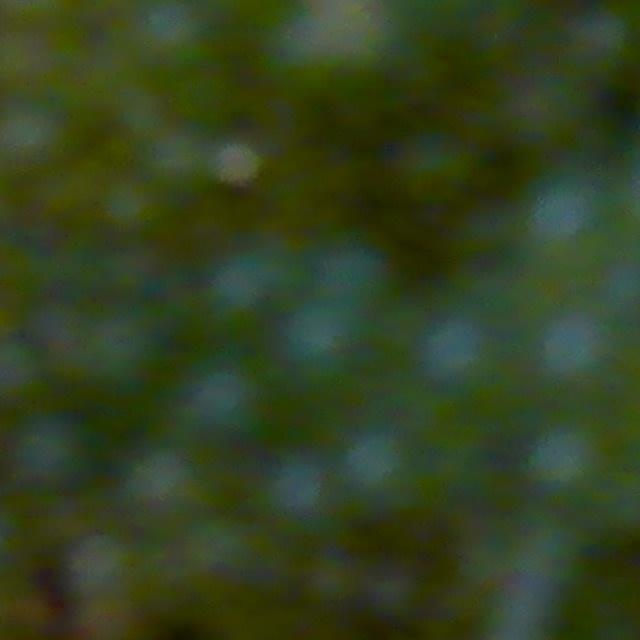SeaGrape: (207, 234, 307, 345), (529, 309, 618, 398), (67, 305, 153, 392), (178, 357, 264, 442), (122, 443, 206, 524), (277, 296, 361, 376), (4, 413, 84, 495), (260, 447, 335, 530), (309, 240, 390, 316), (524, 173, 604, 249), (529, 416, 606, 494), (417, 314, 493, 391), (334, 429, 413, 503), (65, 529, 140, 603), (130, 0, 208, 71), (0, 96, 69, 175), (564, 5, 636, 77), (144, 123, 209, 189), (99, 175, 163, 237)
